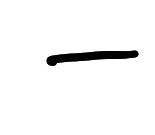minus: (46, 50, 138, 66)
